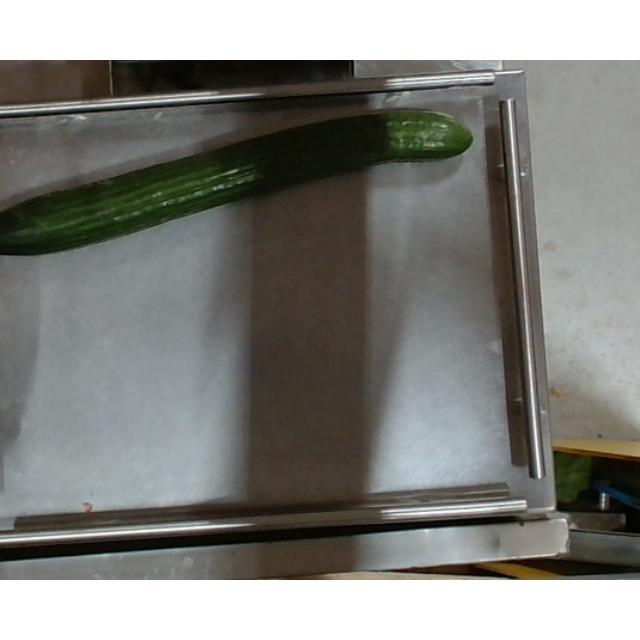cucumber: (0, 108, 474, 255)
